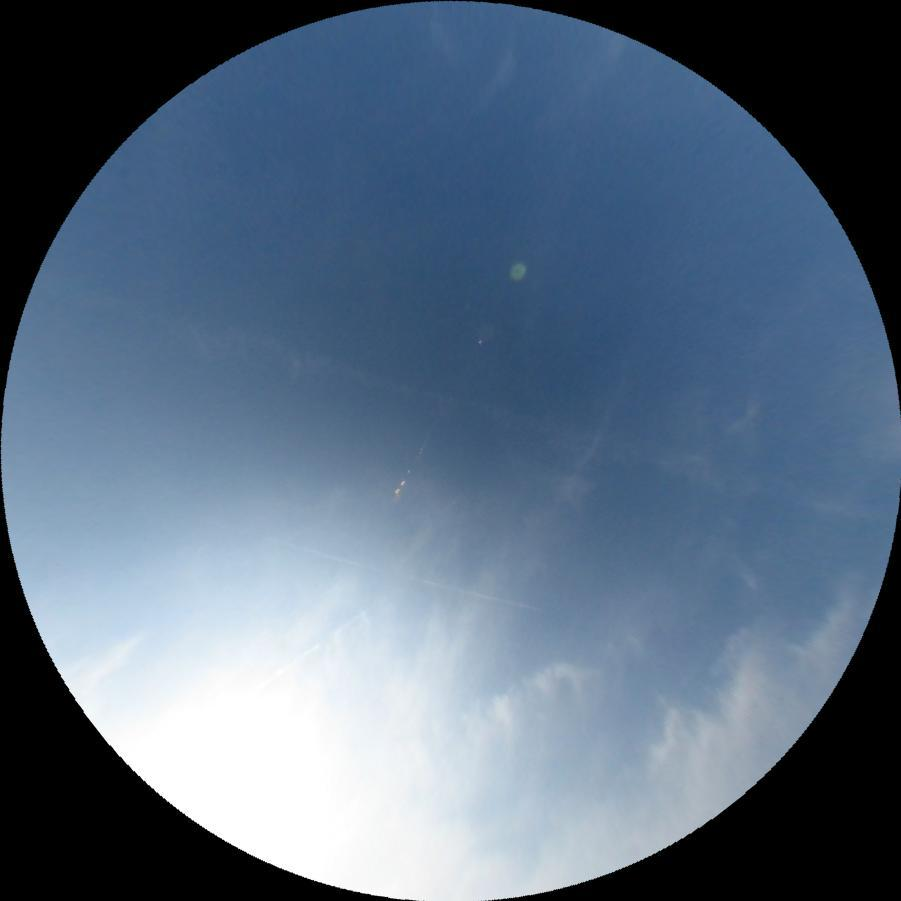contrail veryold: (130, 303, 886, 540)
contrail young: (269, 535, 537, 614)
parasite: (231, 599, 379, 707)
sun: (125, 632, 384, 891)
